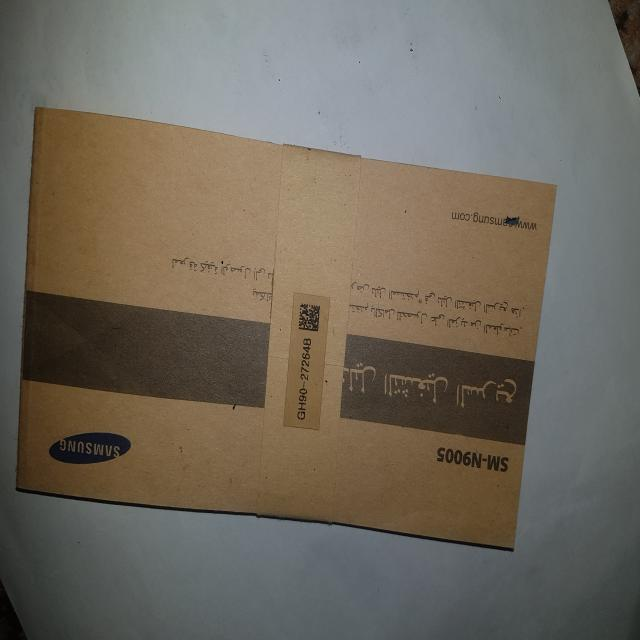electronic: (15, 105, 558, 551)
